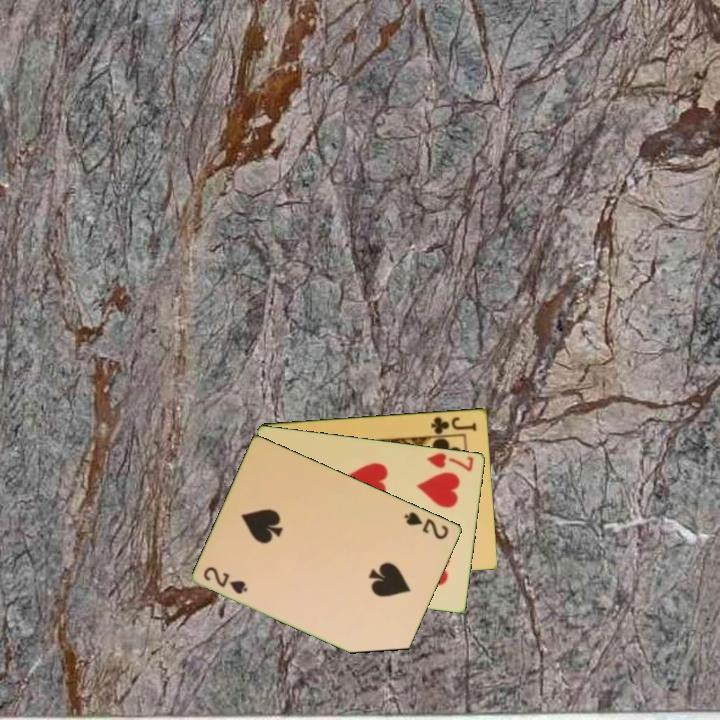2s: (401, 508, 452, 542), (200, 563, 251, 597)
7h: (424, 449, 476, 474)
Jc: (428, 413, 480, 437)
